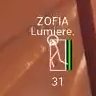hacks_1: (30, 15, 75, 87)
